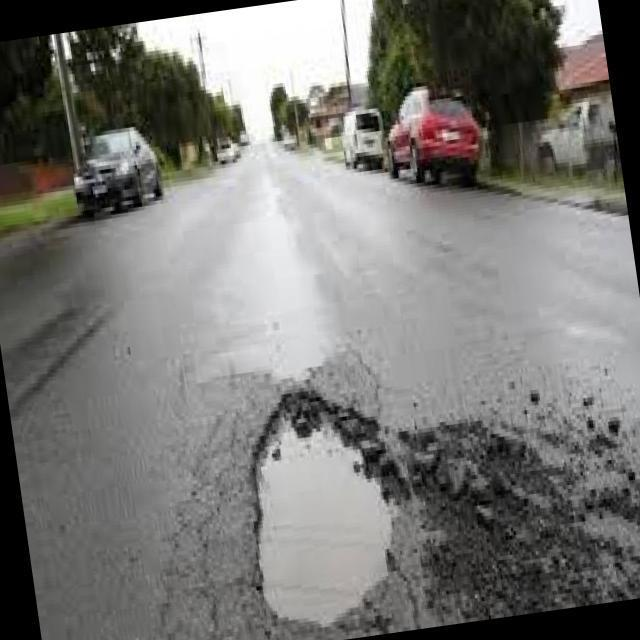Pothole: (256, 395, 394, 625)
